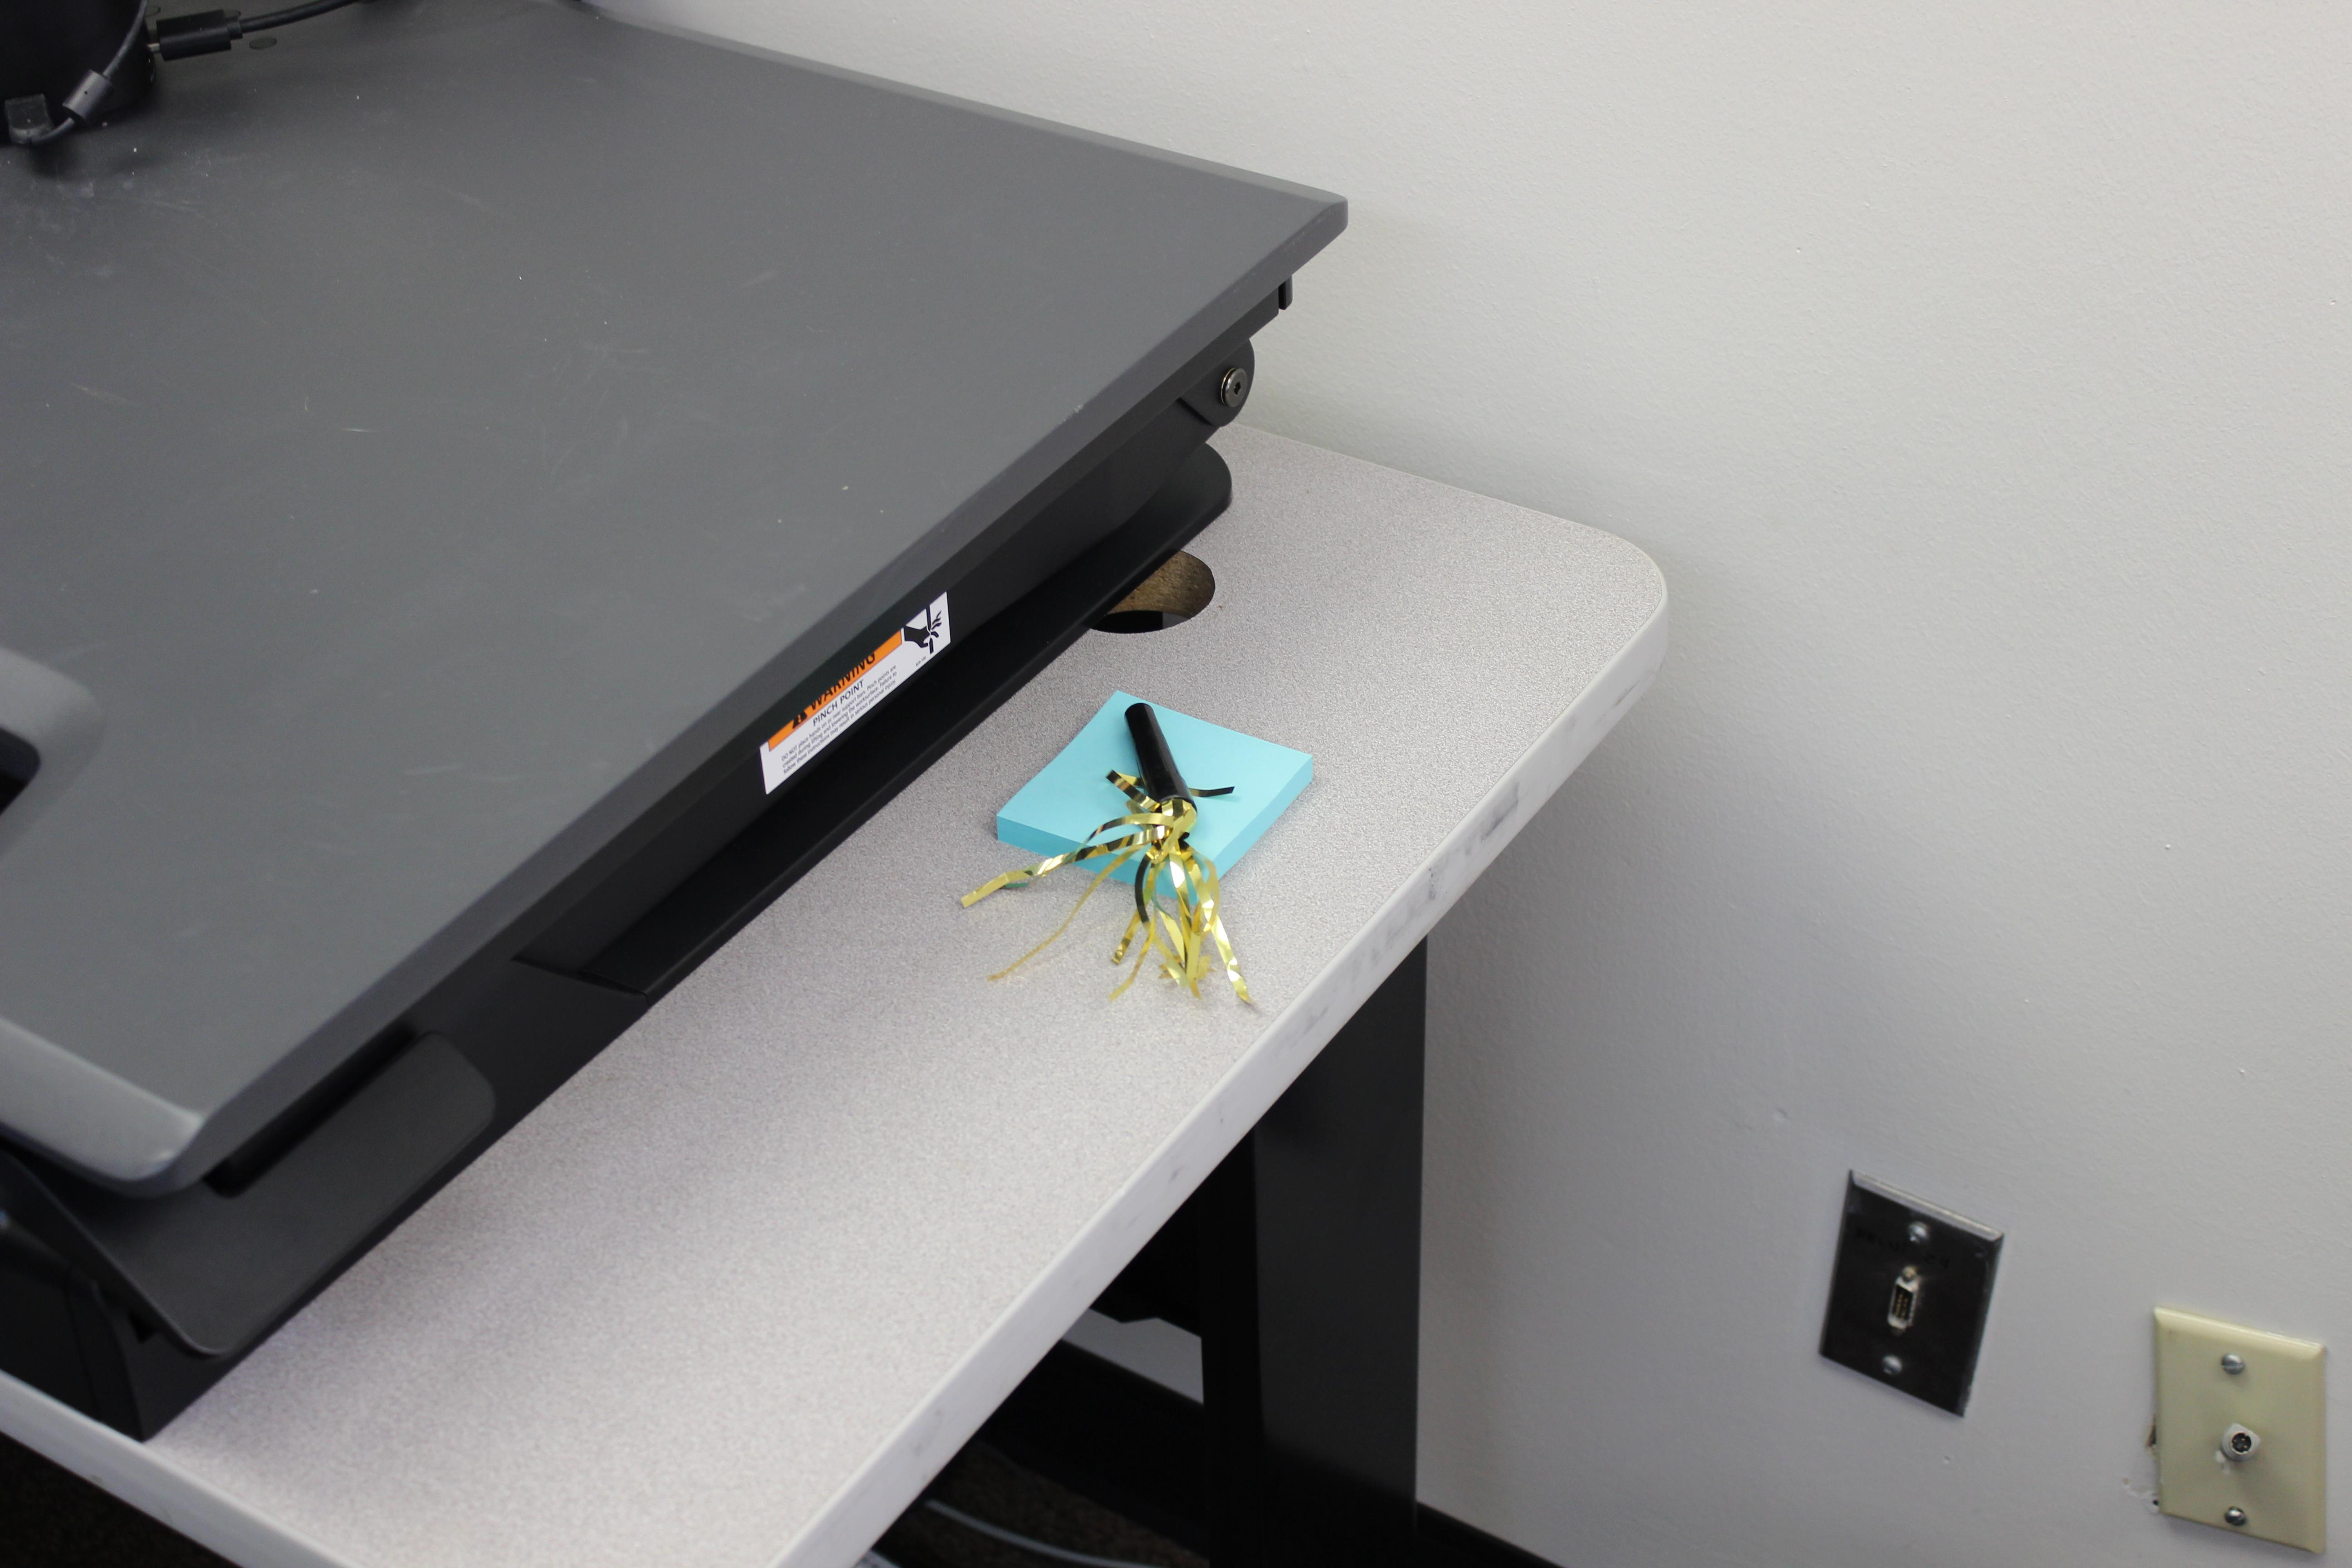partyFavor: (935, 684, 1300, 1036)
